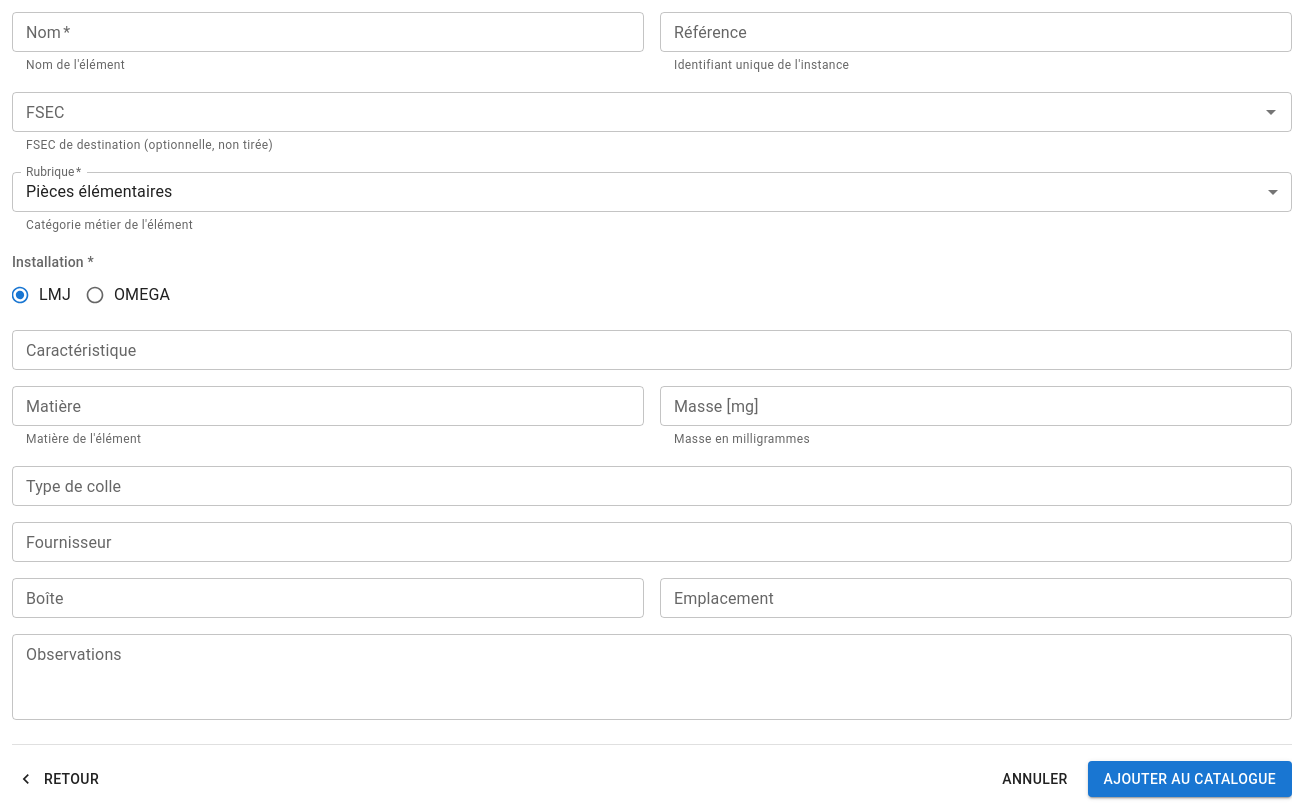
Test: ElementFormShell › sélecteur FSEC contextualisé (R02) › affiche le nom complet de la cible dans les options, sans les FSEC tirées
Click the dropdown labelled "FSEC".
click(636, 112)  # box [18,98,1253,126]
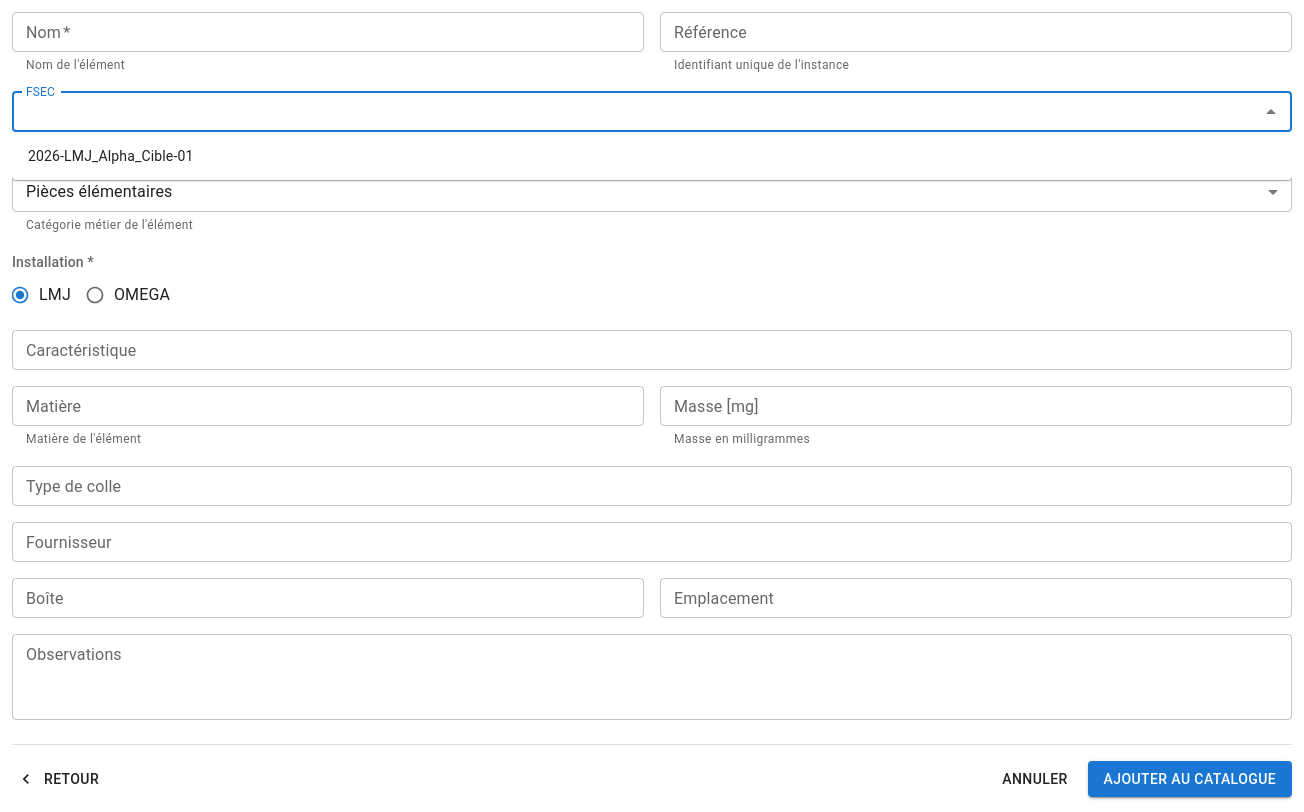
Now the text "2026-LMJ_Alpha_Cible-01" is shown, box [28,146,194,166]
Now the option "2026-LMJ_Alpha_Cible-01" is shown, box [28,148,194,164]
